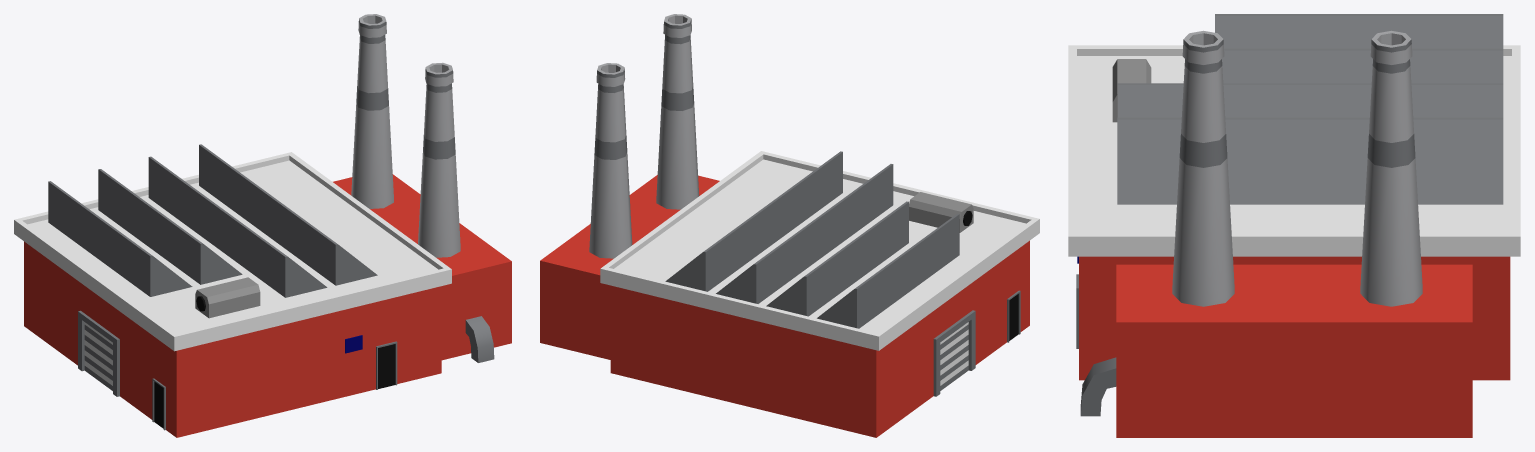
Rendered from factory.fbx.
The picture shows the model from 3 angles, left to right: view 1: azimuth 30°, elevation 25°; view 2: azimuth 150°, elevation 25°; view 3: azimuth 270°, elevation 25°; orthographic projection. The views are drawn at different scales.
Visible parts, largest first — view 1: Object, Object.004, Object.001, Object.006, Object.011, Object.009, Object.003, Object.010, Object.005, Object.002; view 2: Object, Object.004, Object.001, Object.006, Object.009, Object.011, Object.003, Object.002; view 3: Object.006, Object.001, Object.004, Object.009, Object.011, Object, Object.010, Object.003.
Boxes of the visible parts, x1=… form: Object: x1=24, y1=241, x2=441, y2=437; Object.004: x1=14, y1=152, x2=451, y2=351; Object.001: x1=48, y1=144, x2=377, y2=297; Object.006: x1=333, y1=174, x2=511, y2=360; Object.011: x1=351, y1=14, x2=393, y2=208; Object.009: x1=418, y1=62, x2=460, y2=257; Object.003: x1=195, y1=277, x2=260, y2=318; Object.010: x1=465, y1=316, x2=494, y2=362; Object.005: x1=376, y1=341, x2=397, y2=389; Object.002: x1=152, y1=378, x2=165, y2=430; Object: x1=610, y1=240, x2=1029, y2=437; Object.004: x1=600, y1=151, x2=1039, y2=350; Object.001: x1=665, y1=151, x2=959, y2=328; Object.006: x1=540, y1=175, x2=719, y2=359; Object.009: x1=656, y1=14, x2=699, y2=209; Object.011: x1=589, y1=63, x2=632, y2=258; Object.003: x1=909, y1=192, x2=973, y2=232; Object.002: x1=1007, y1=290, x2=1020, y2=342; Object.006: x1=1116, y1=264, x2=1472, y2=437; Object.001: x1=1117, y1=14, x2=1503, y2=204; Object.004: x1=1068, y1=45, x2=1520, y2=256; Object.009: x1=1172, y1=30, x2=1234, y2=306; Object.011: x1=1360, y1=30, x2=1422, y2=306; Object: x1=1079, y1=256, x2=1510, y2=380; Object.010: x1=1080, y1=357, x2=1116, y2=416; Object.003: x1=1112, y1=59, x2=1151, y2=122.
Size of the model in its own units: 3348 by 2366 by 2621.
